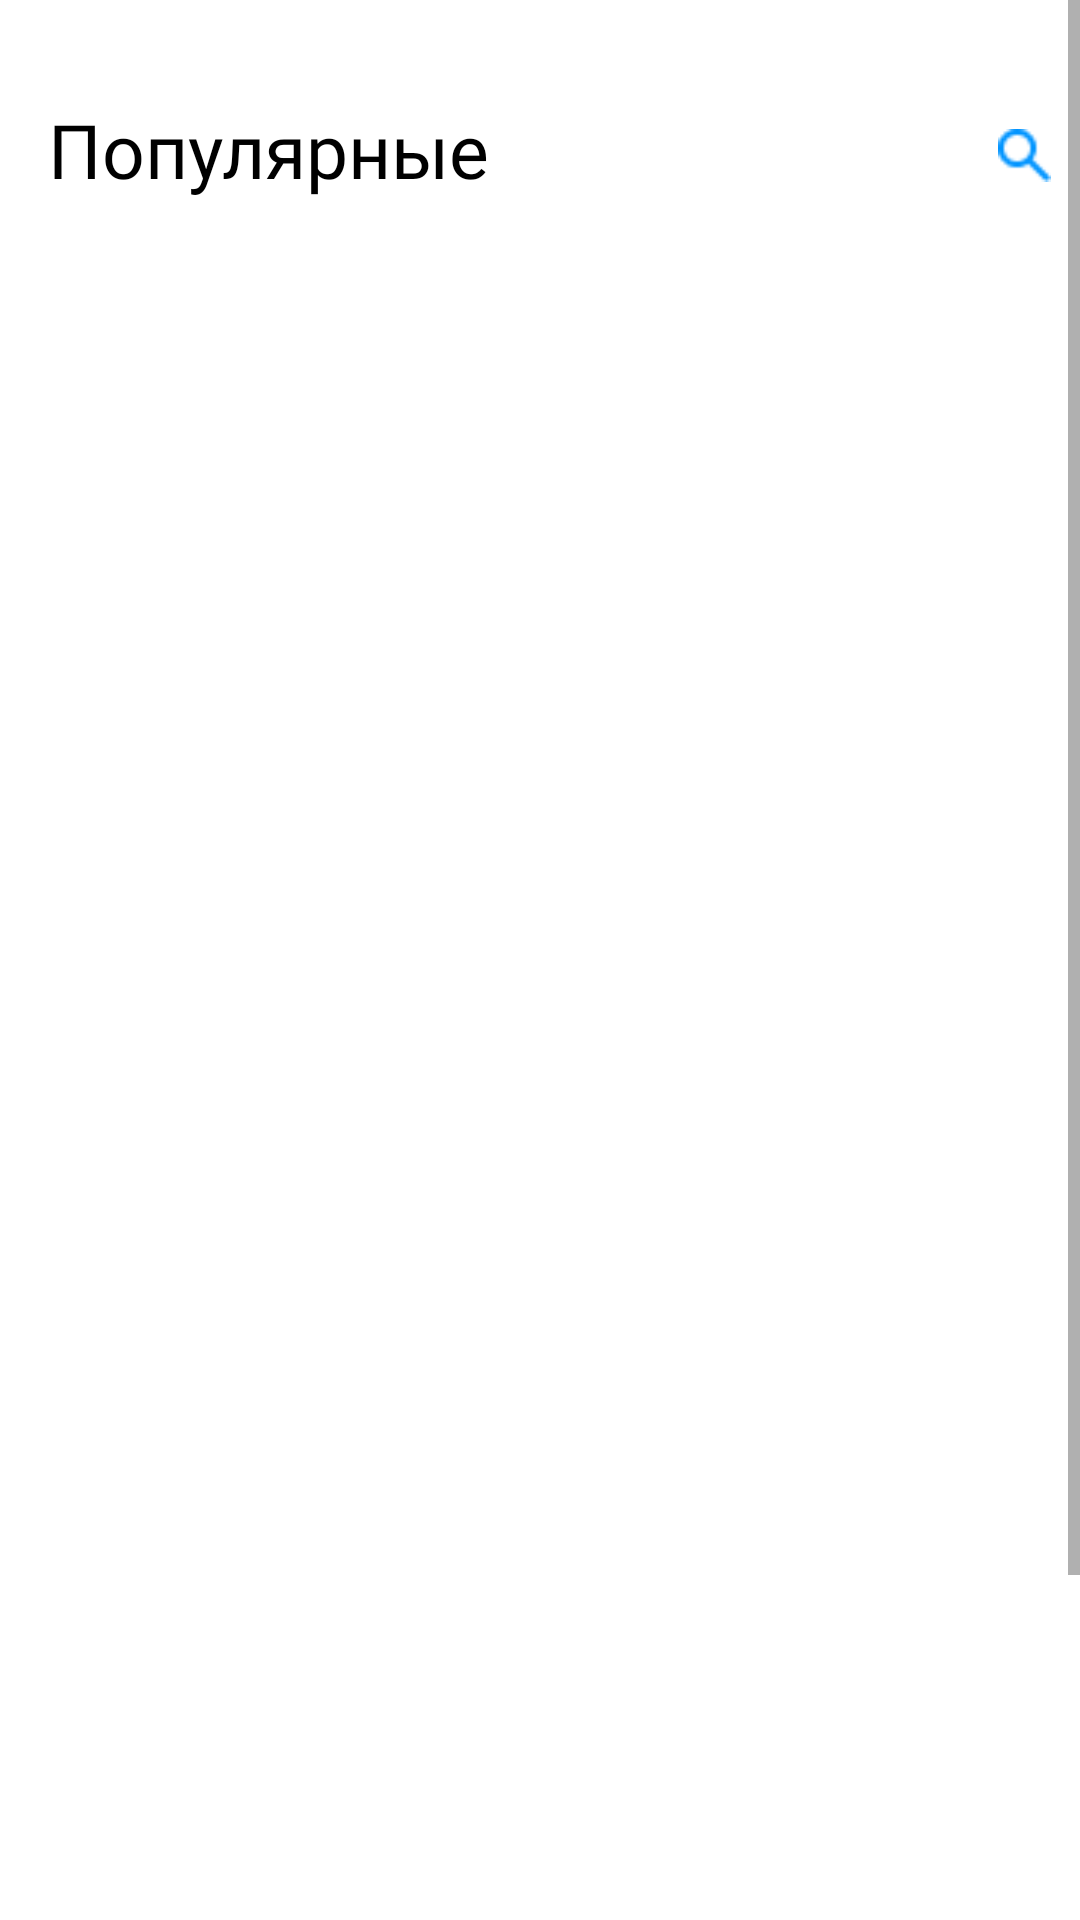

Screen size 1080x1920. Icon name, then its center in pixels as (x=x, y=y):
search: (x=1024, y=155)
